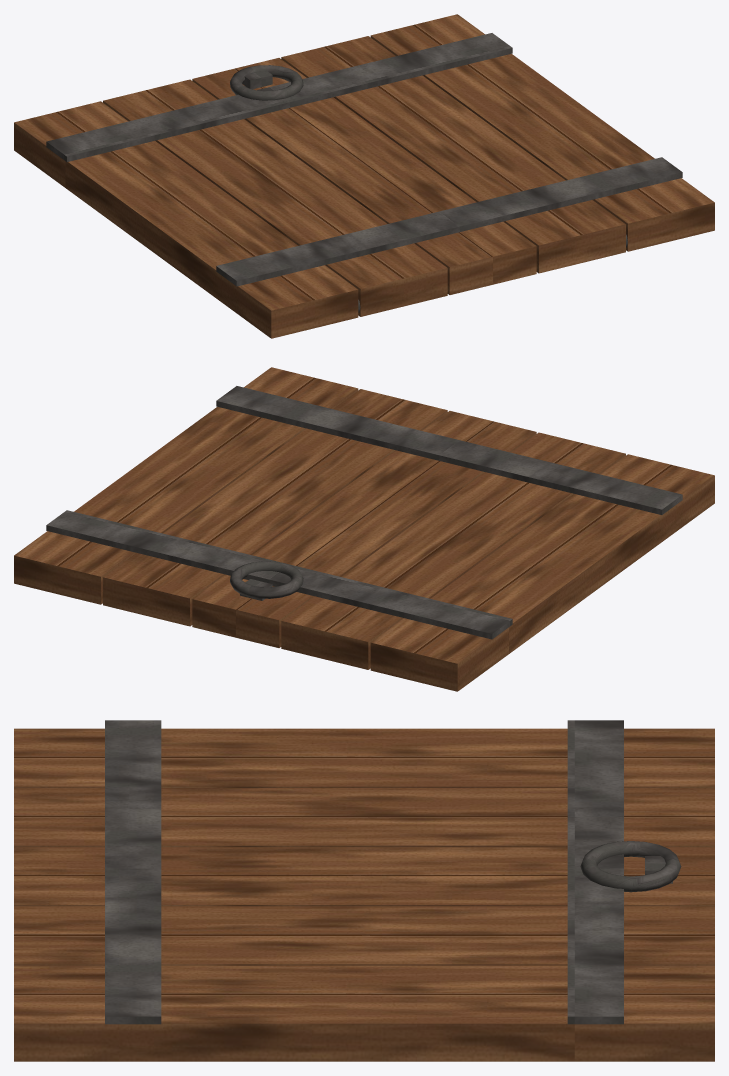
File: hatch.glb
3 renders of one model, top to bottom at view 1: azimuth 30°, elevation 25°; view 2: azimuth 150°, elevation 25°; view 3: azimuth 270°, elevation 25°, orthographic. The views are drawn at different scales.
Visible parts, largest first — view 1: Hatch_oakPlanks, Hatch_iron; view 2: Hatch_oakPlanks, Hatch_iron; view 3: Hatch_oakPlanks, Hatch_iron.
Boxes of the visible parts, box(x1,y1,x2,y2) form: Hatch_oakPlanks: box(14, 14, 714, 338); Hatch_iron: box(46, 33, 682, 312); Hatch_oakPlanks: box(14, 367, 714, 691); Hatch_iron: box(46, 386, 682, 639); Hatch_oakPlanks: box(14, 728, 714, 1061); Hatch_iron: box(105, 720, 681, 1024).
Size of the model in its own units: 1 by 0.087 by 1.
Materials: 2 (2 with a texture image).
